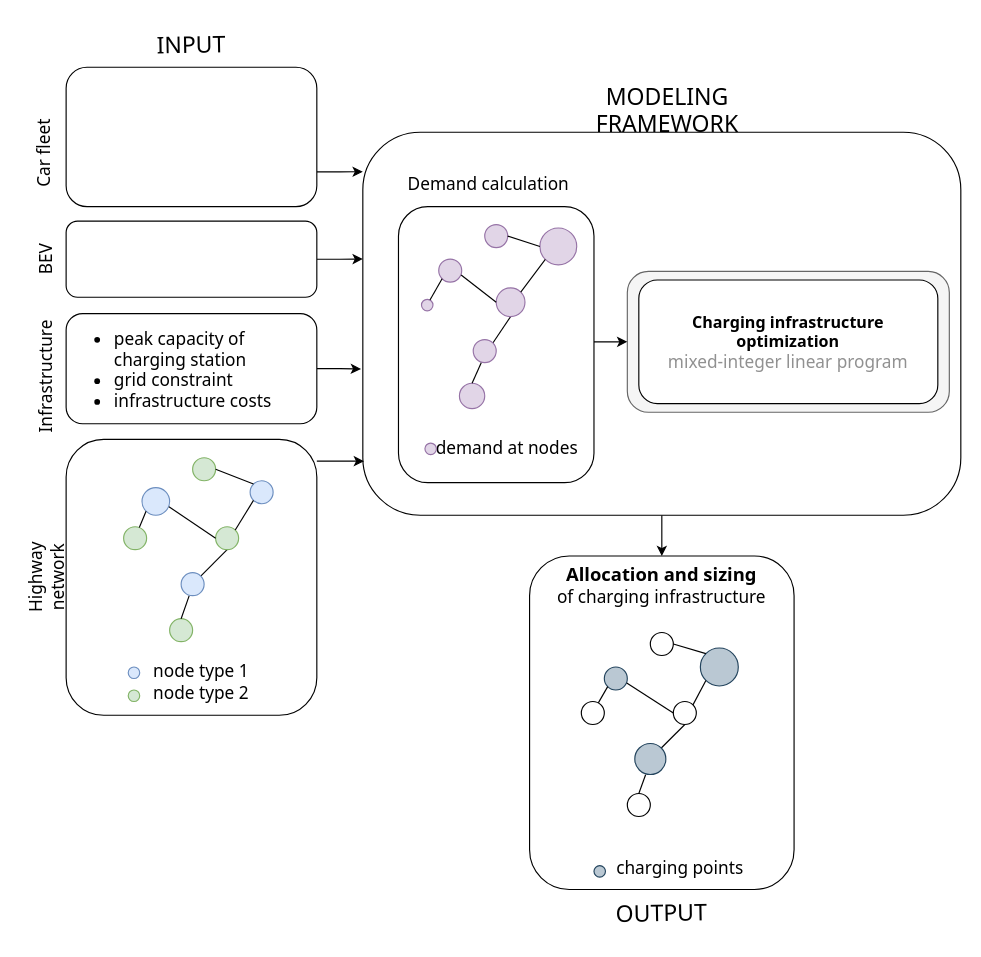
Some shapes in this 981 by 957 pixel diagram are drawn without their labels. Here are the shapes that lost their labels. From the top down, the box of each, then its label:
(65, 66, 317, 207): share of BEVs share of long-distance drivers traffic load ...
(65, 220, 317, 297): energy consumption driving range charging capacity
